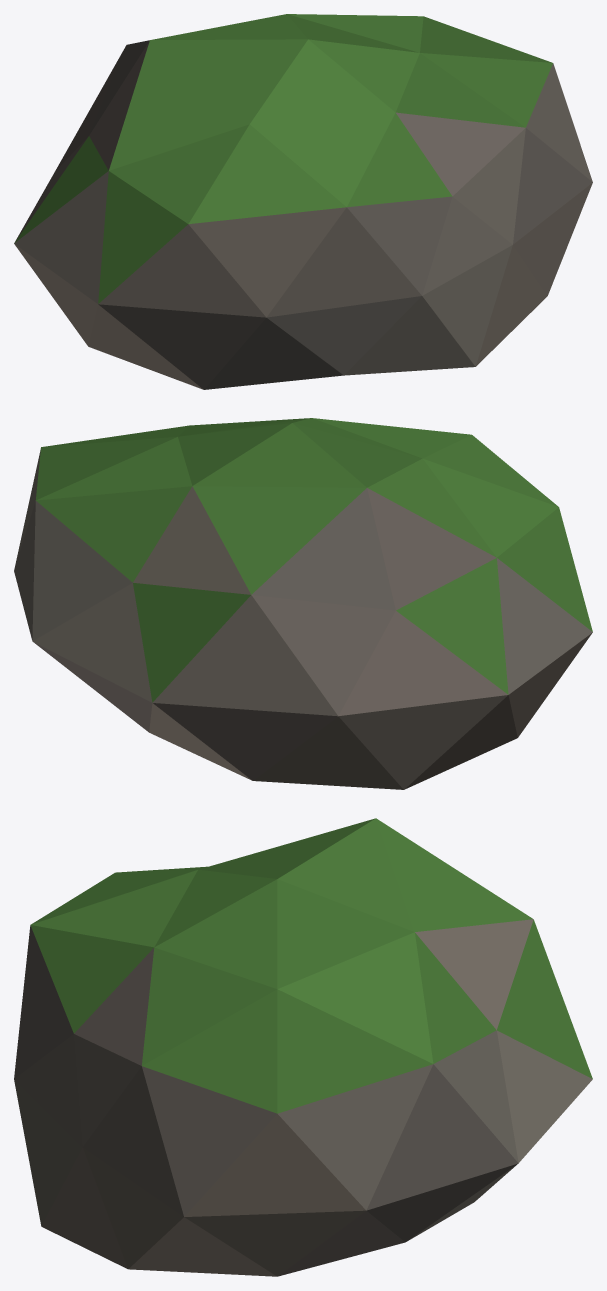
Rendered from roche_03.glb.
3 renders of one model, top to bottom at view 1: azimuth 30°, elevation 25°; view 2: azimuth 150°, elevation 25°; view 3: azimuth 270°, elevation 25°, orthographic. The views are drawn at different scales.
Visible parts, largest first — view 1: roche_03; view 2: roche_03; view 3: roche_03.
Part boxes in pixels (x1=…): roche_03: x1=14, y1=14, x2=592, y2=389; roche_03: x1=14, y1=418, x2=592, y2=789; roche_03: x1=14, y1=818, x2=592, y2=1276.
Bounding box in the file's own units: 3 × 1.55 × 2.61.
